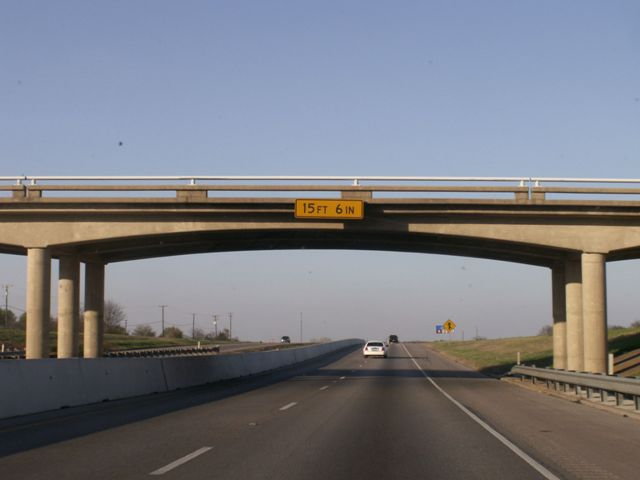bridge: (1, 175, 640, 274)
